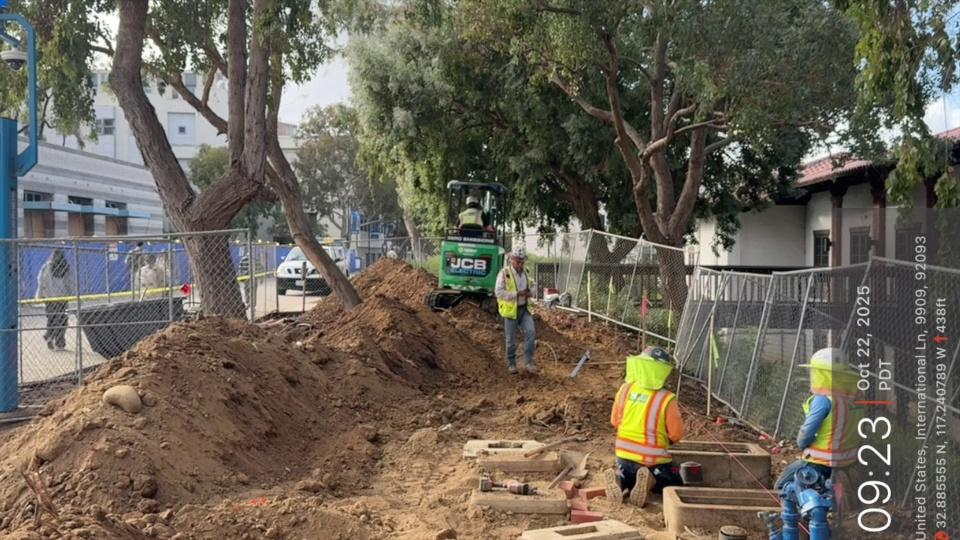Exacavator: (416, 159, 510, 319)
